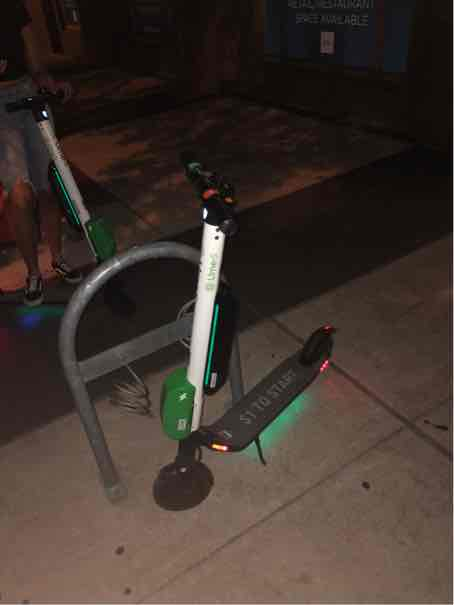scooter: (144, 154, 357, 511)
